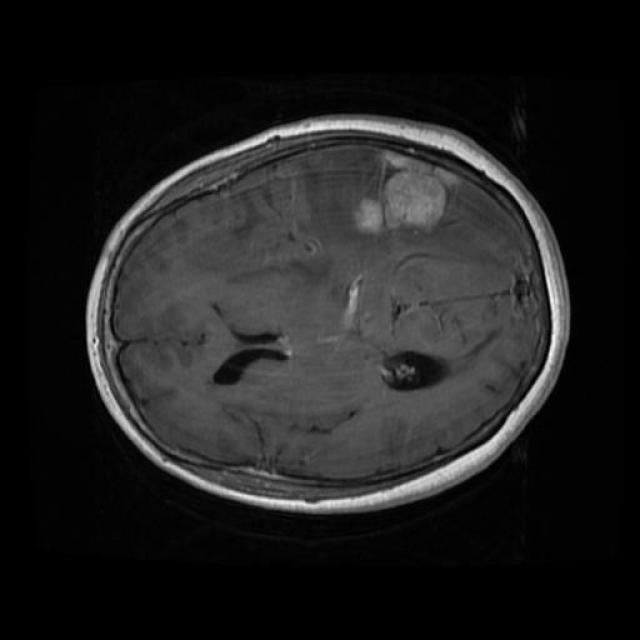Meningioma: (354, 151, 456, 234)
